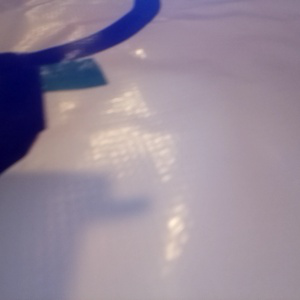bottom_right: (1, 52, 140, 114)
